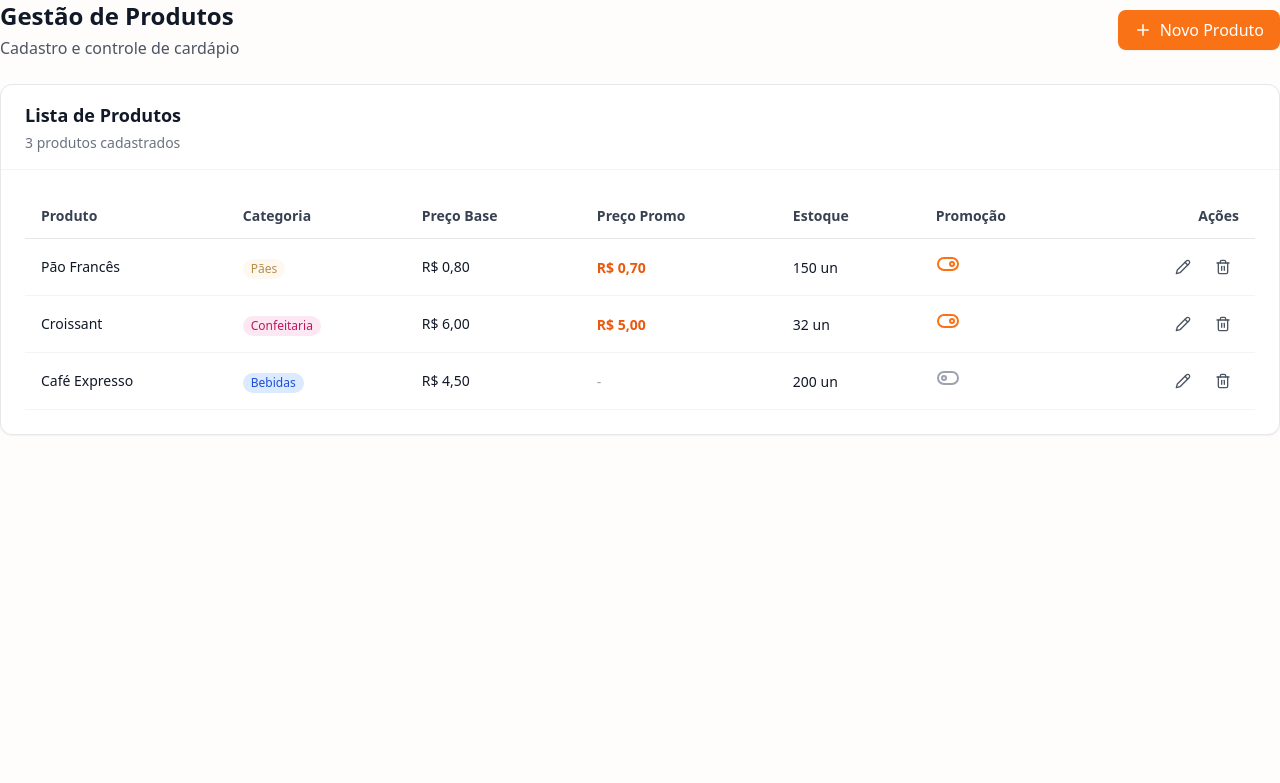
Test: Products › Create Product › opens form when clicking "Novo Produto"
Step 1. Click the button "Novo Produto" → x=1199, y=30, box [1118,10,1279,50]
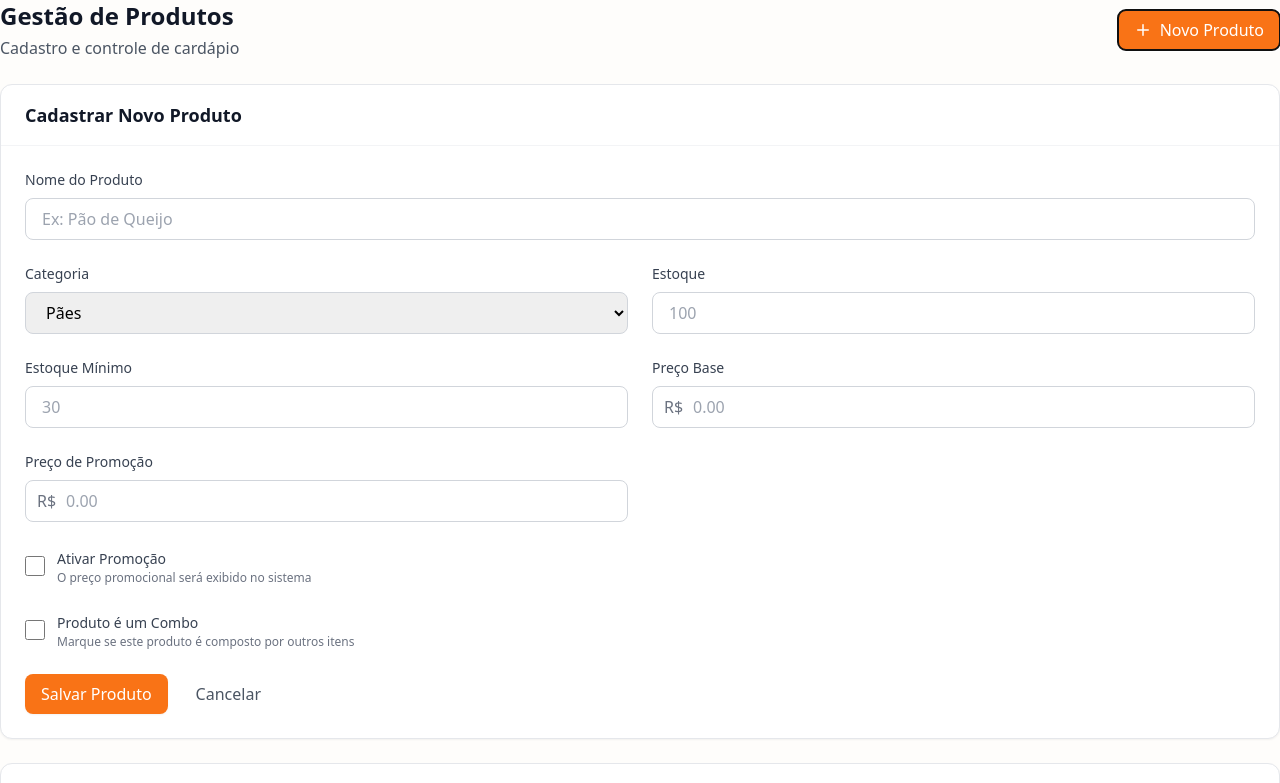
expect the heading "Cadastrar Novo Produto" is shown: met, box [25,101,242,129]
expect the field with placeholder "Ex: Pão de Queijo" is shown: met, box [25,198,1255,240]
